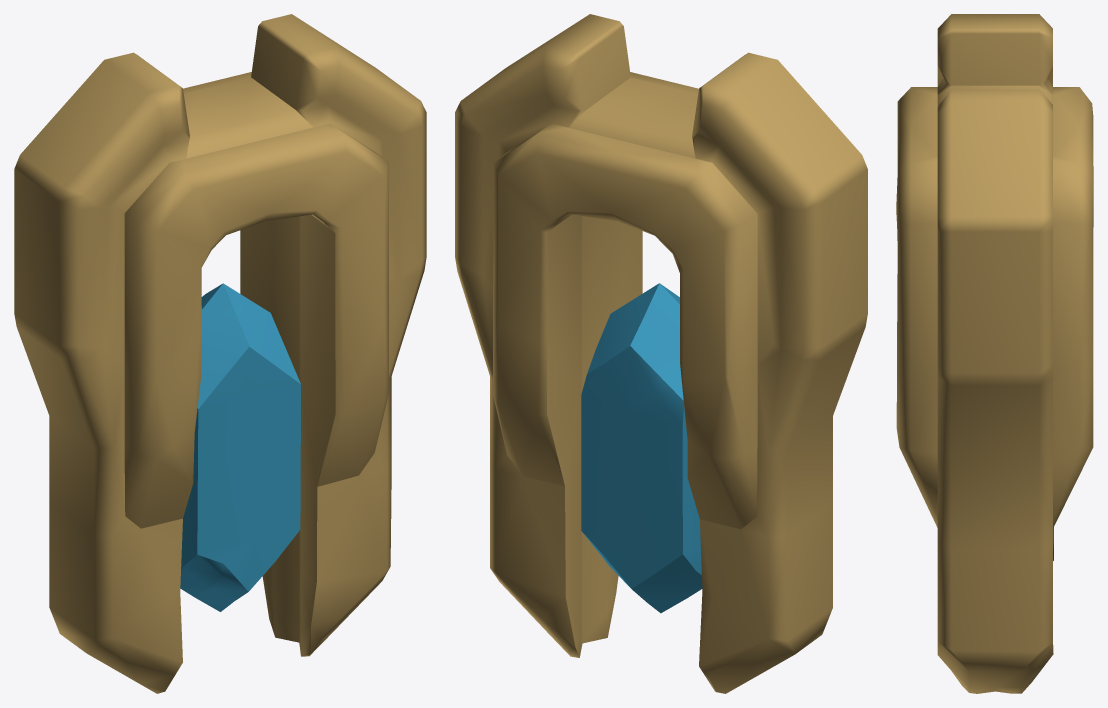
Rendered from Key-import.fbx.
3 views of the same model, side by side, from view 1: azimuth 30°, elevation 25°; view 2: azimuth 150°, elevation 25°; view 3: azimuth 270°, elevation 25° (orthographic). The views are drawn at different scales.
Parts seen in each view (by area): view 1: Key; view 2: Key; view 3: Key.
Boxes of the visible parts, bbox=[...] form: Key: bbox=[14, 14, 426, 693]; Key: bbox=[455, 14, 867, 693]; Key: bbox=[896, 14, 1093, 693].
Size of the model in its own units: 74.57 by 119 by 35.5.
